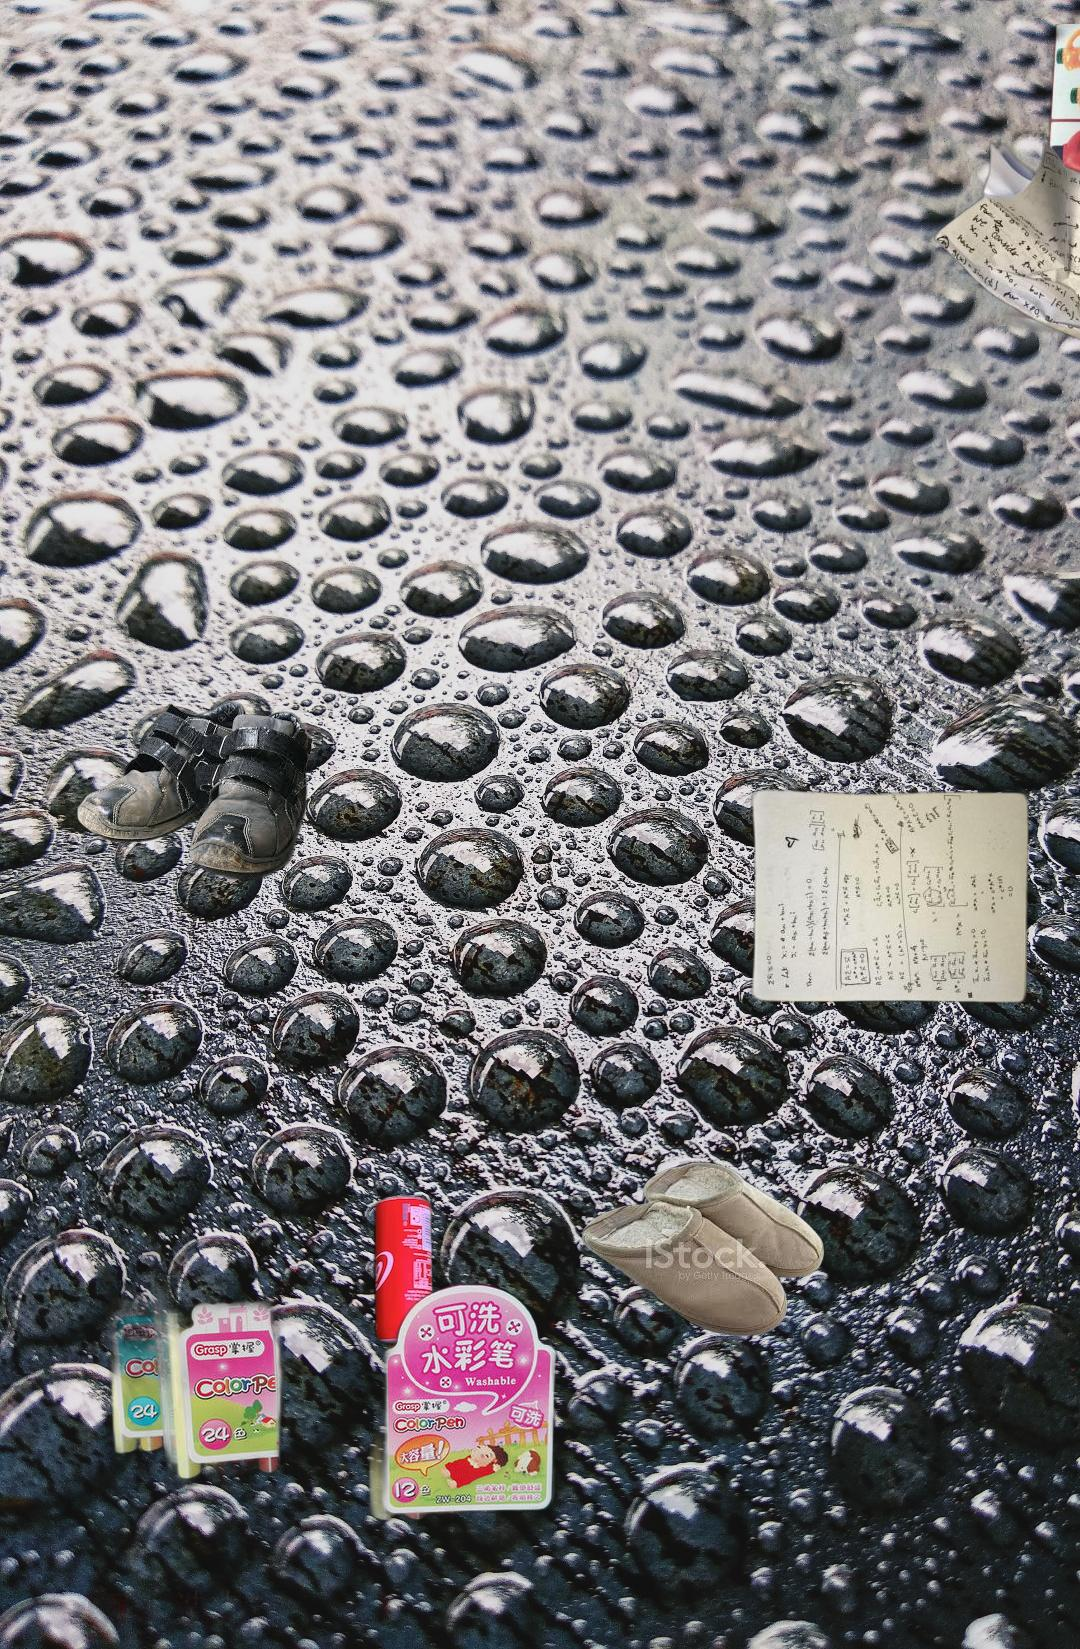metal-cans: (370, 1189, 439, 1350)
paper: (746, 785, 1033, 1005), (929, 139, 1080, 366), (998, 24, 1080, 397)
penholder: (88, 1162, 588, 1641)
shoes: (579, 1160, 824, 1339), (75, 699, 315, 881)
